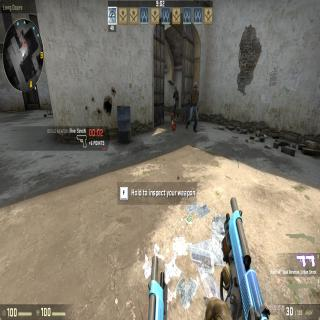T-Body: (187, 82, 199, 133), (172, 85, 179, 119)
T-Head: (193, 81, 197, 93), (174, 85, 177, 92)
